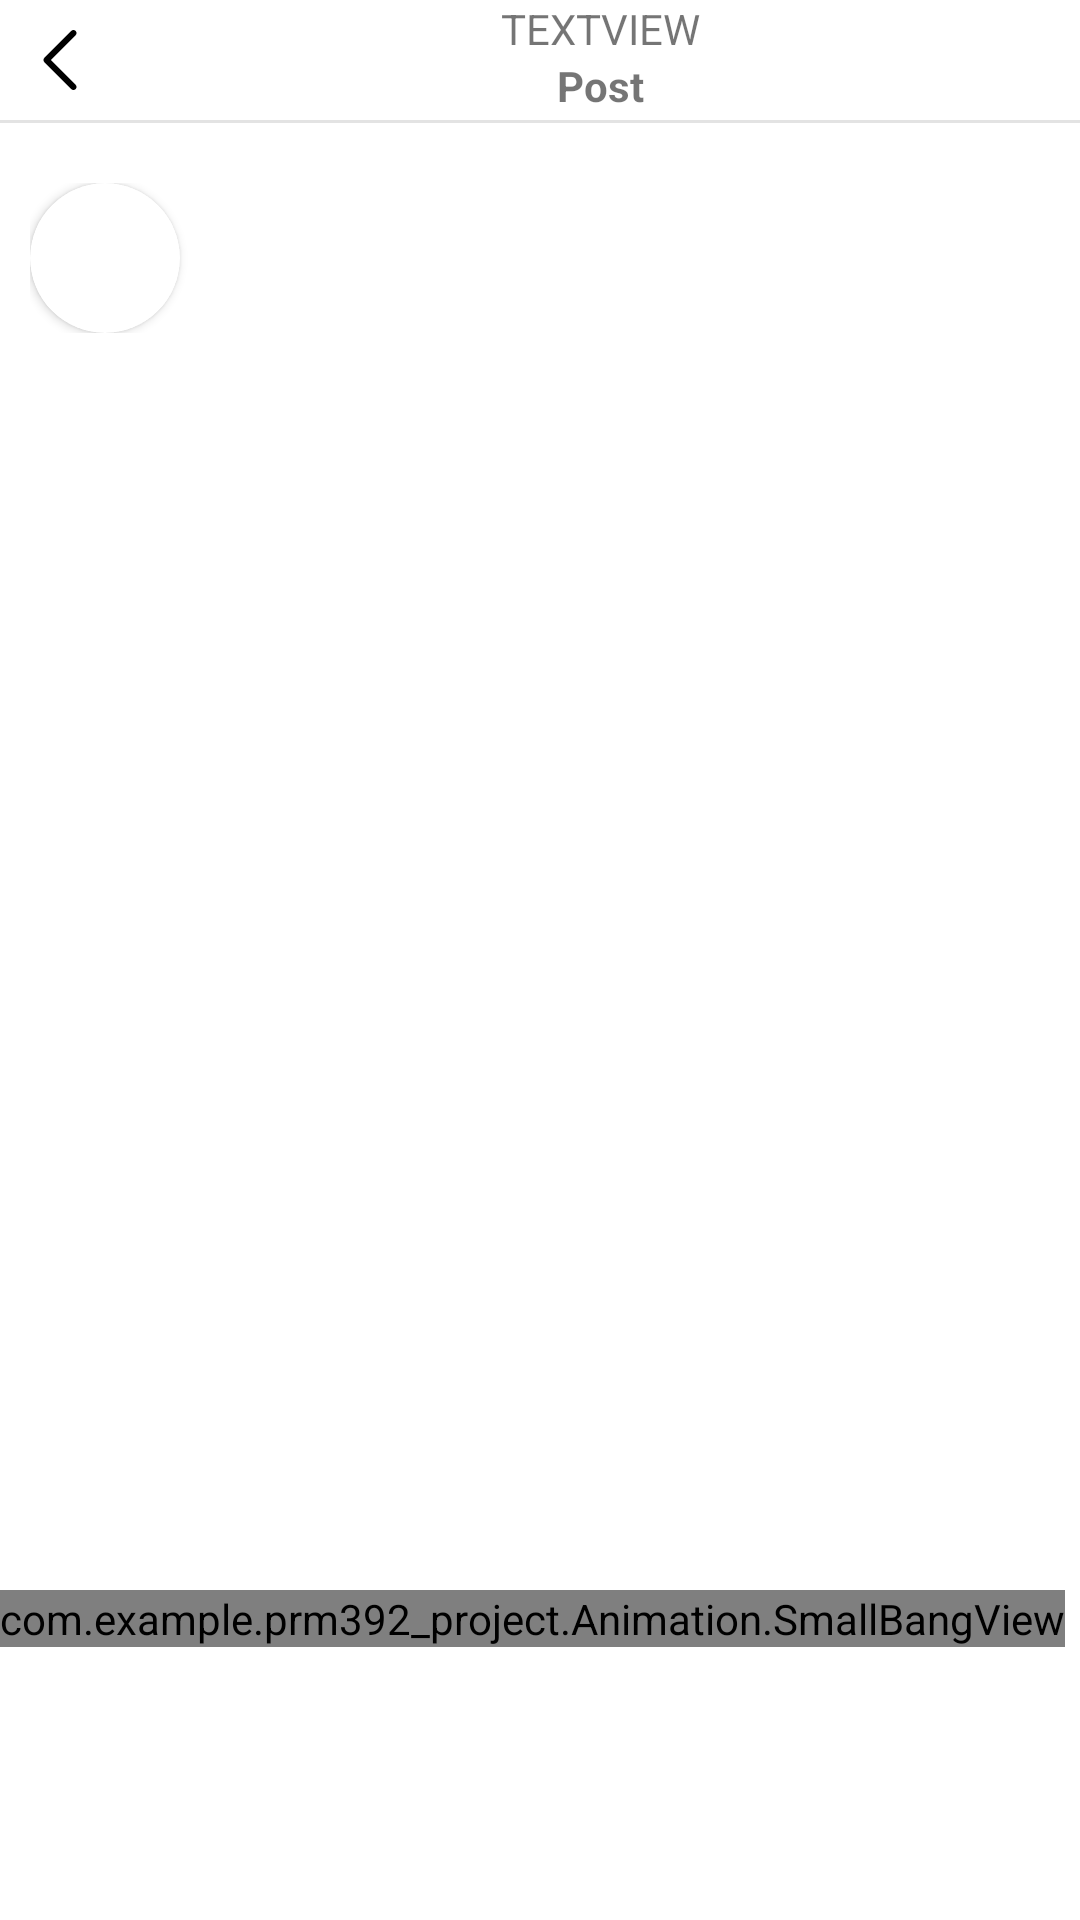

Point at icon controls on the screen. Image size 1080px×1920px, points as (x=x, y=y).
back: (x=60, y=60)
